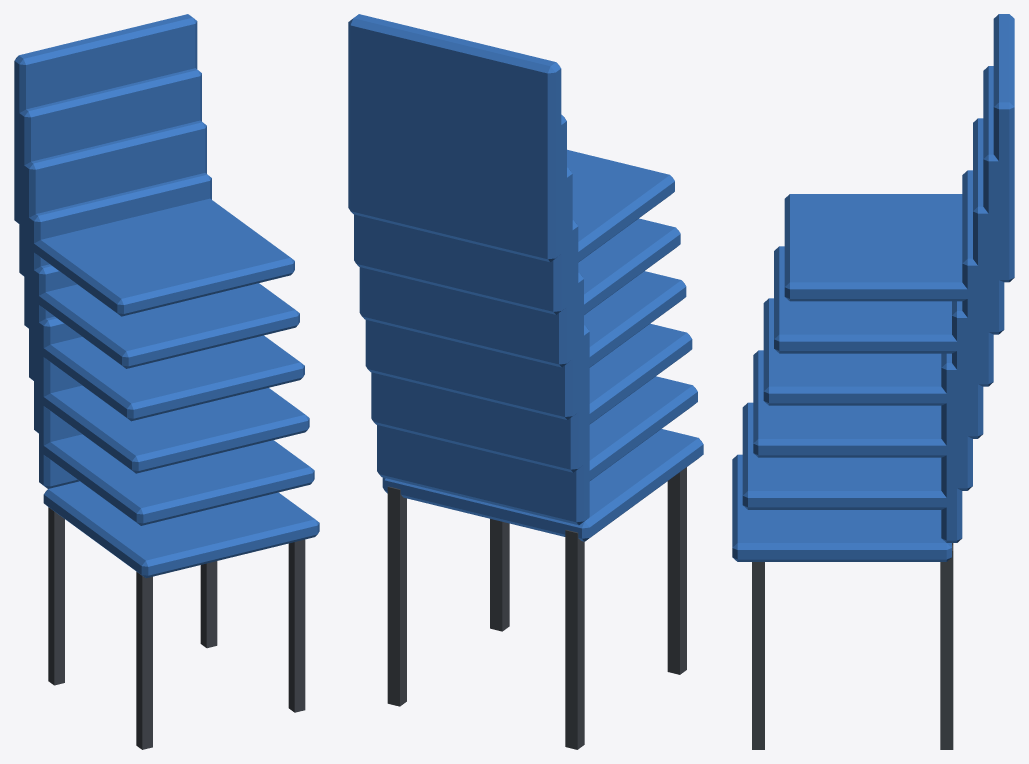
The model's file is chair_stack.glb.
3 views of the same model, side by side, from view 1: azimuth 30°, elevation 25°; view 2: azimuth 150°, elevation 25°; view 3: azimuth 270°, elevation 25° (orthographic). The views are drawn at different scales.
Visible parts, largest first — view 1: chair_stack_mesh; view 2: chair_stack_mesh; view 3: chair_stack_mesh.
Part boxes in pixels (left/top/right/bottom): chair_stack_mesh: left=14, top=14, right=319, bottom=749; chair_stack_mesh: left=348, top=14, right=703, bottom=749; chair_stack_mesh: left=732, top=14, right=1014, bottom=749.
Size of the model in its own units: 0.42 by 1.37 by 0.54.
